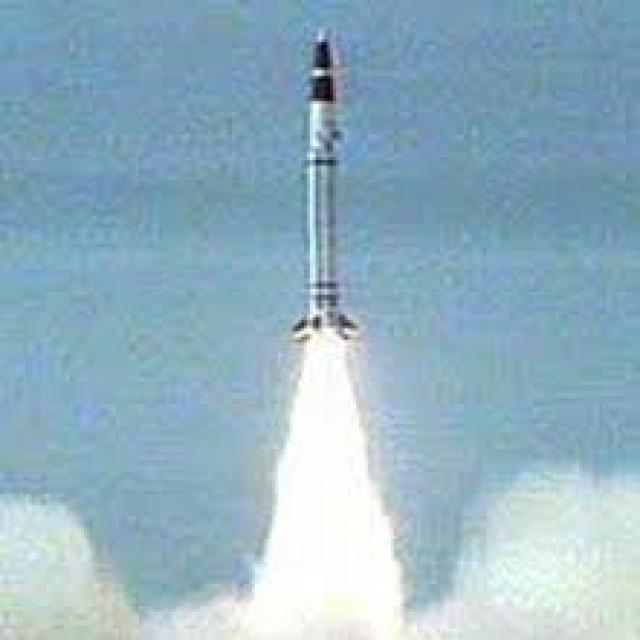missile: (301, 19, 342, 337)
